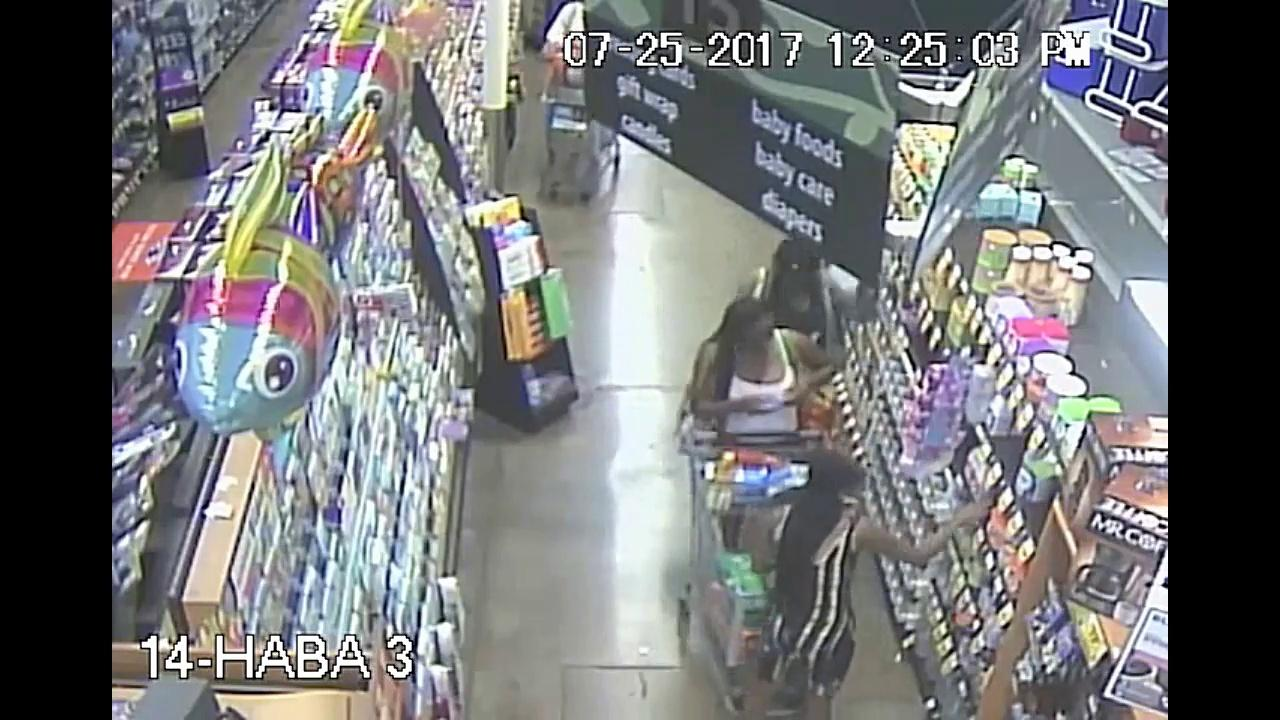1: (960, 471, 1002, 535)
2: (740, 439, 1016, 720)
3: (672, 273, 915, 453), (750, 197, 835, 302)
5: (689, 424, 745, 547)
persone: (791, 367, 861, 446)
